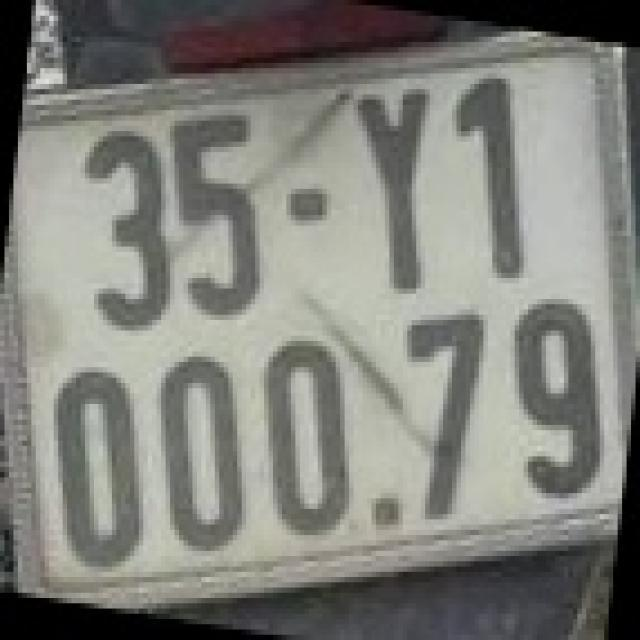0: (49, 362, 148, 572), (260, 330, 354, 540), (156, 352, 246, 556)
1: (452, 73, 537, 278)
3: (76, 120, 175, 336)
5: (170, 105, 269, 320)
7: (402, 304, 492, 524)
9: (506, 288, 608, 504)
Y: (350, 73, 448, 299)
